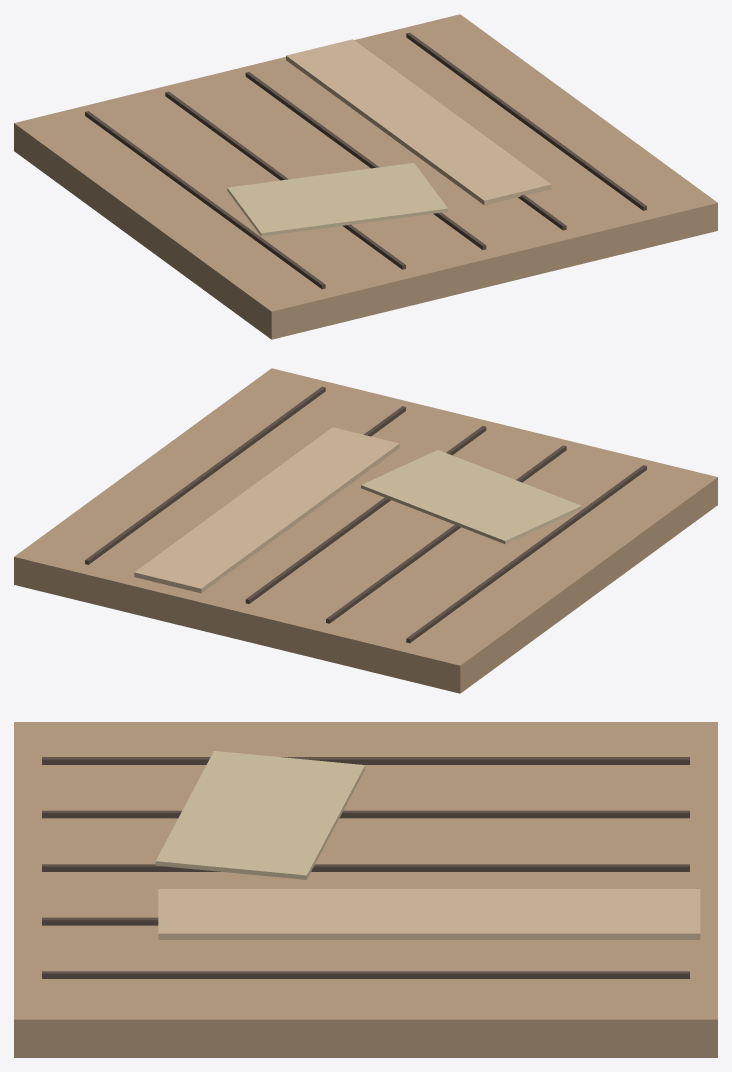
Rendered from mod_floor_wood.glb.
3 views of the same model, one above another, from view 1: azimuth 30°, elevation 25°; view 2: azimuth 150°, elevation 25°; view 3: azimuth 270°, elevation 25° (orthographic). The views are drawn at different scales.
Visible parts, largest first — view 1: module_wood_floor_slab_core_2m, wood_floor_replaced_board, wood_floor_dust_patch, wood_floor_plank_gap_4, wood_floor_plank_gap_0, wood_floor_plank_gap_2, wood_floor_plank_gap_1; view 2: module_wood_floor_slab_core_2m, wood_floor_replaced_board, wood_floor_dust_patch, wood_floor_plank_gap_4, wood_floor_plank_gap_0, wood_floor_plank_gap_2, wood_floor_plank_gap_1; view 3: module_wood_floor_slab_core_2m, wood_floor_replaced_board, wood_floor_dust_patch, wood_floor_plank_gap_4, wood_floor_plank_gap_1, wood_floor_plank_gap_0, wood_floor_plank_gap_2, wood_floor_plank_gap_3.
Boxes of the visible parts, box(x1,y1,x2,y2) form: module_wood_floor_slab_core_2m: box(14, 14, 717, 339); wood_floor_replaced_board: box(286, 39, 551, 205); wood_floor_dust_patch: box(227, 163, 447, 236); wood_floor_plank_gap_4: box(406, 32, 646, 210); wood_floor_plank_gap_0: box(85, 111, 325, 289); wood_floor_plank_gap_2: box(245, 72, 486, 249); wood_floor_plank_gap_1: box(165, 91, 405, 269); module_wood_floor_slab_core_2m: box(14, 368, 717, 693); wood_floor_replaced_board: box(134, 427, 399, 593); wood_floor_dust_patch: box(361, 450, 581, 544); wood_floor_plank_gap_4: box(85, 386, 325, 564); wood_floor_plank_gap_0: box(406, 465, 646, 643); wood_floor_plank_gap_2: box(245, 426, 486, 603); wood_floor_plank_gap_1: box(326, 445, 566, 623); module_wood_floor_slab_core_2m: box(14, 722, 717, 1057); wood_floor_replaced_board: box(158, 889, 700, 939); wood_floor_dust_patch: box(155, 751, 364, 879); wood_floor_plank_gap_4: box(42, 971, 689, 978); wood_floor_plank_gap_1: box(42, 810, 689, 818); wood_floor_plank_gap_0: box(42, 757, 689, 764); wood_floor_plank_gap_2: box(42, 864, 689, 871); wood_floor_plank_gap_3: box(42, 917, 158, 925).
Bounding box in the file's own units: 2 × 0.161 × 2.
